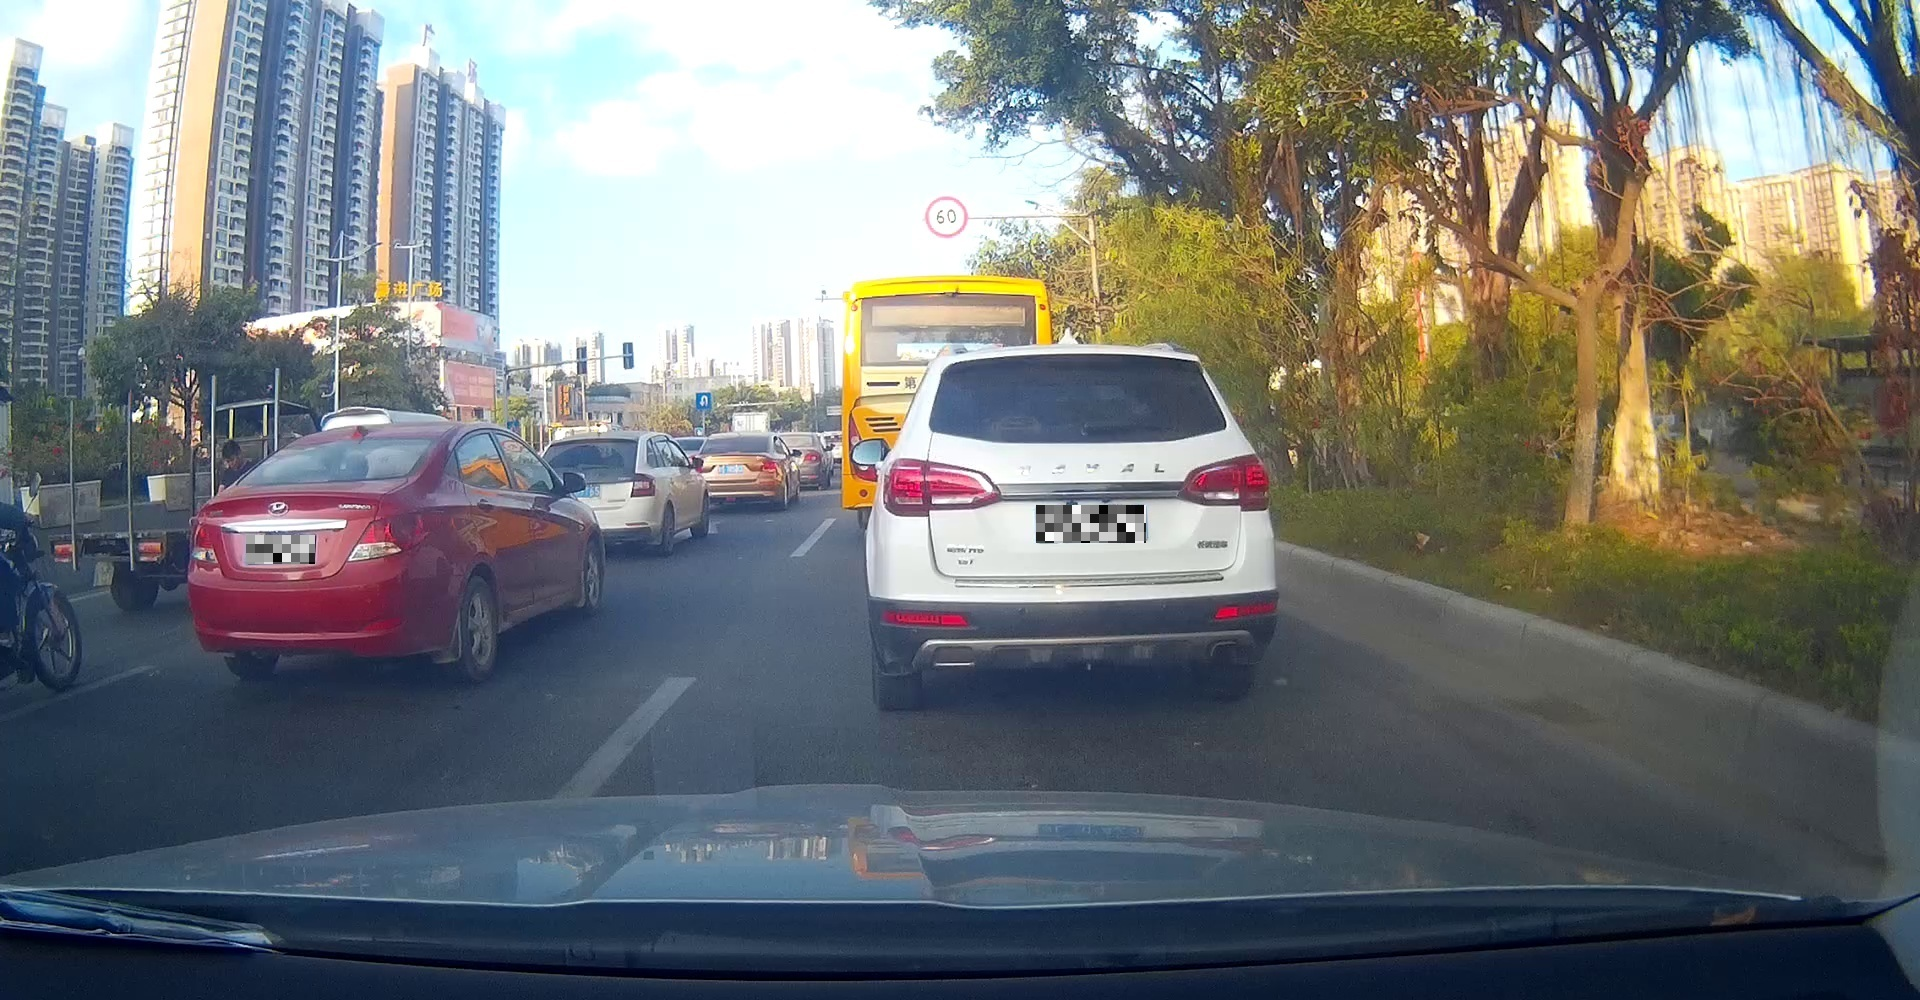L_light: (883, 458, 1002, 516), (189, 525, 218, 563)
R_light: (1176, 454, 1271, 511), (347, 511, 443, 561)
T_light: (1063, 354, 1098, 362), (352, 439, 375, 445)
day-brake: (866, 346, 1277, 711)
day-no: (187, 421, 448, 687)
plate_1: (246, 536, 315, 563)
plate_2: (1036, 505, 1145, 543)
